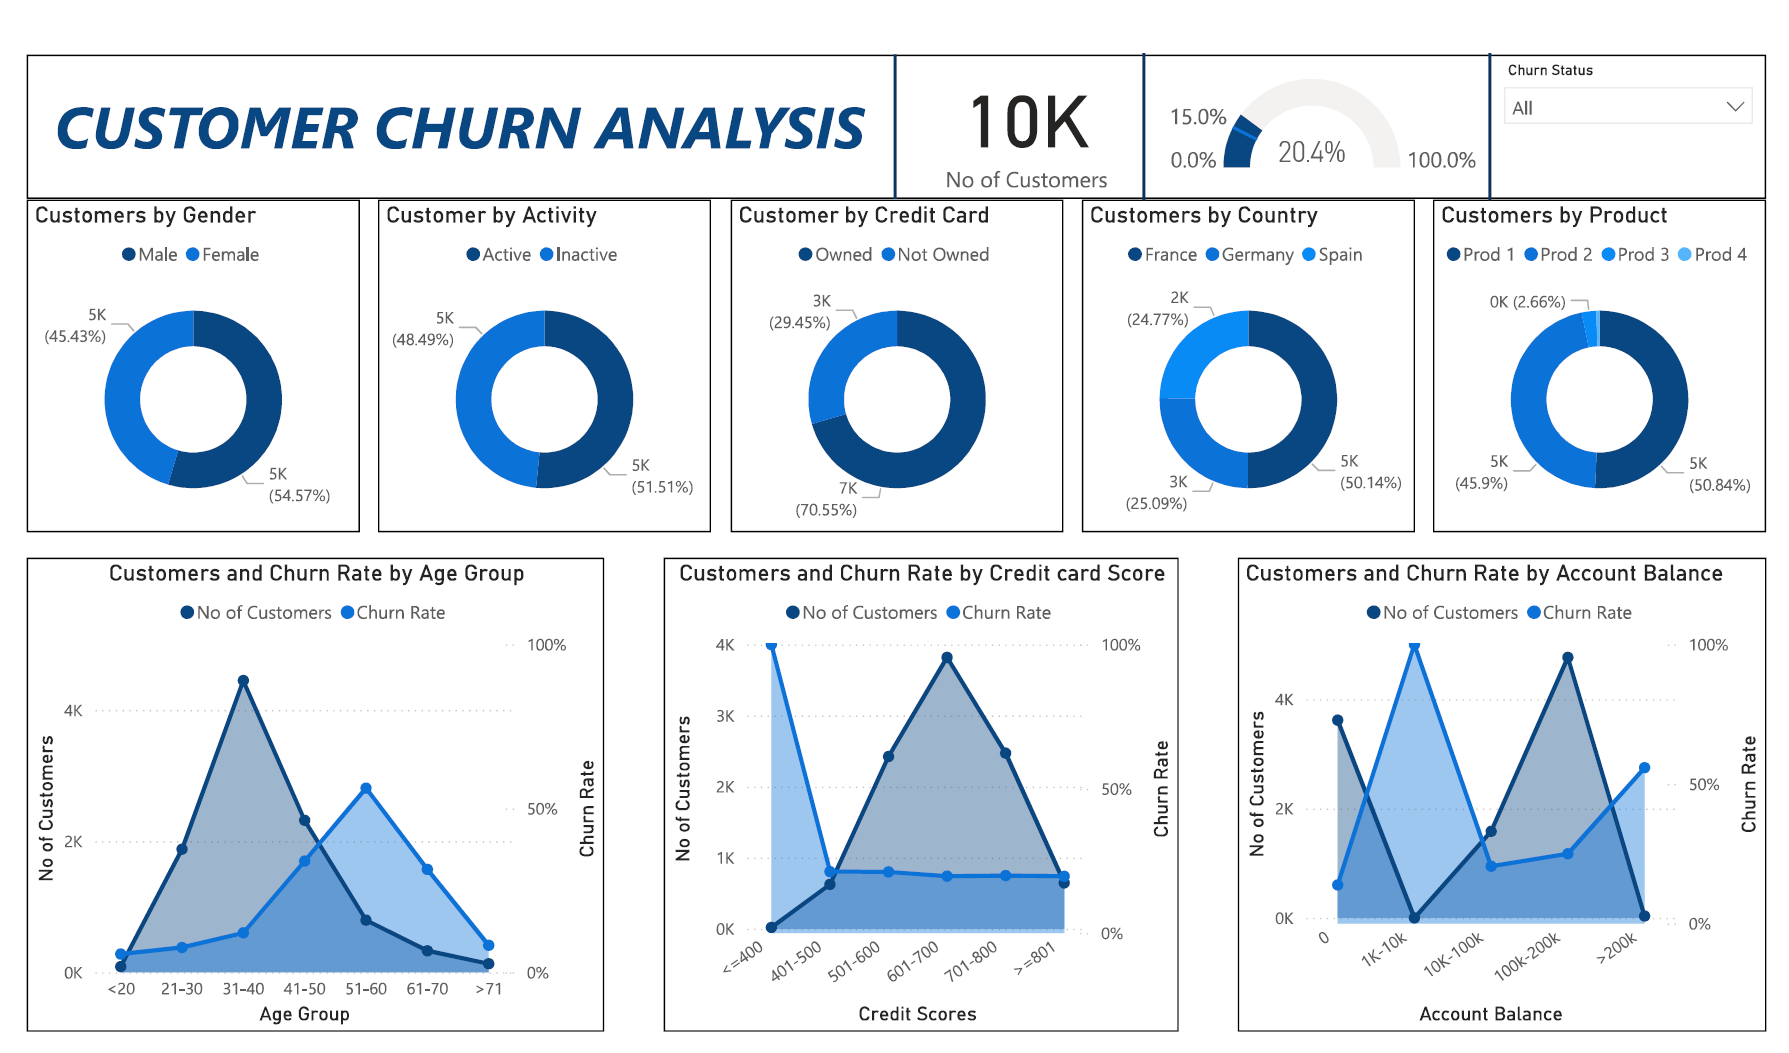

What the dashboard file says about the page in this screenshot:
{"tool":"powerbi","page":{"name":"Page 1","canvas":[1280,720],"ordinal":0},"visuals":[{"type":"textbox","box":[0,1,1280,106],"z":0},{"type":"card","fields":{"Values":["Customer Data.No of Customers"]},"box":[640,1,192,106],"z":1000},{"type":"donutChart","title":"Customers by Gender","fields":{"Category":["Customer Data.Gender"],"Y":["Customer Data.No of Customers"]},"box":[0,107.8,245,245],"z":2000},{"type":"donutChart","title":"Customer by Activity","fields":{"Category":["Customer Data.Active"],"Y":["Customer Data.No of Customers"]},"box":[258.8,107.8,245,245],"z":3000},{"type":"donutChart","title":"Customer by Credit Card","fields":{"Category":["Customer Data.Credit card"],"Y":["Customer Data.No of Customers"]},"box":[517.5,107.8,245,245],"z":4000},{"type":"donutChart","title":"Customers by Country","fields":{"Category":["Customer Data.Country"],"Y":["Customer Data.No of Customers"]},"box":[776.2,107.8,245,245],"z":5000},{"type":"donutChart","title":"Customers by Product","fields":{"Y":["Customer Data.No of Customers"],"Category":["Customer Data.Product"]},"box":[1035,107.8,245,245],"z":6000},{"type":"areaChart","title":"Customers and Churn Rate by Age Group","fields":{"Category":["Age Groups.Age Group"],"Y":["Customer Data.No of Customers"],"Y2":["Customer Data.Churn Rate"]},"box":[0,371,425,349],"z":7000},{"type":"areaChart","title":"Customers and Churn Rate by Credit card Score","fields":{"Category":["Credit Score Groups.Credit Scores"],"Y":["Customer Data.No of Customers"],"Y2":["Customer Data.Churn Rate"]},"box":[468.5,371,379,349],"z":8000},{"type":"areaChart","title":"Customers and Churn Rate by Account Balance","fields":{"Category":["Account Balance Groups.Account Balance"],"Y":["Customer Data.No of Customers"],"Y2":["Customer Data.Churn Rate"]},"box":[891,371,389,349],"z":9000},{"type":"slicer","fields":{"Values":["Customer Data.Churn Status"]},"box":[1077,1,203,106],"z":10000},{"type":"gauge","fields":{"Y":["Customer Data.Churn Rate"],"MinValue":["Min(Customer Data.Min Churn Rate)"],"MaxValue":["Max(Customer Data.Max  Churn Rate)"],"TargetValue":["Max(Customer Data.Target Churn Rate)"]},"box":[832,1,245,106],"z":11000},{"type":"shape","box":[797,0,51,108],"z":12000},{"type":"shape","box":[614,1,51,106],"z":13000},{"type":"shape","box":[1072,0,9,108],"z":14000}]}

Visuals, with their boxes in screenshot pixels (x1, y1, x2, y2):
textbox: region(14, 48, 1778, 194)
card - Customer Data.No of Customers: region(896, 48, 1161, 194)
"Customers by Gender" donutChart: region(14, 195, 352, 533)
"Customer by Activity" donutChart: region(371, 195, 708, 533)
"Customer by Credit Card" donutChart: region(727, 195, 1065, 533)
"Customers by Country" donutChart: region(1084, 195, 1422, 533)
"Customers by Product" donutChart: region(1441, 195, 1778, 533)
"Customers and Churn Rate by Age Group" areaChart: region(14, 558, 600, 1039)
"Customers and Churn Rate by Credit card Score" areaChart: region(660, 558, 1182, 1039)
"Customers and Churn Rate by Account Balance" areaChart: region(1242, 558, 1778, 1039)
slicer - Customer Data.Churn Status: region(1498, 48, 1778, 194)
gauge - Customer Data.Churn Rate x Min(Customer Data.Min Churn Rate): region(1161, 48, 1498, 194)
shape: region(1113, 47, 1183, 195)
shape: region(860, 48, 931, 194)
shape: region(1492, 47, 1504, 195)
